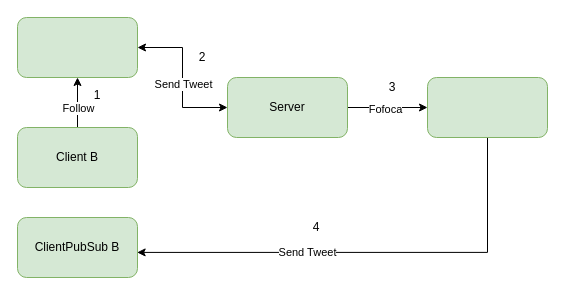
The diagram is 565 pixels wide and 295 high, and some of its shapes have lost their labels. Here are the shapes that lost their labels. From the top down, the box of each, then its label:
(16, 16, 138, 78): Client A
(426, 76, 548, 138): ServerPubSub
